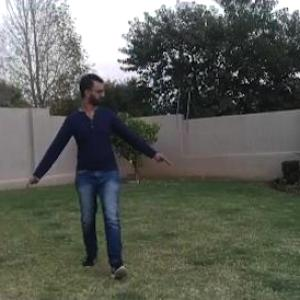land: (10, 70, 175, 288)
